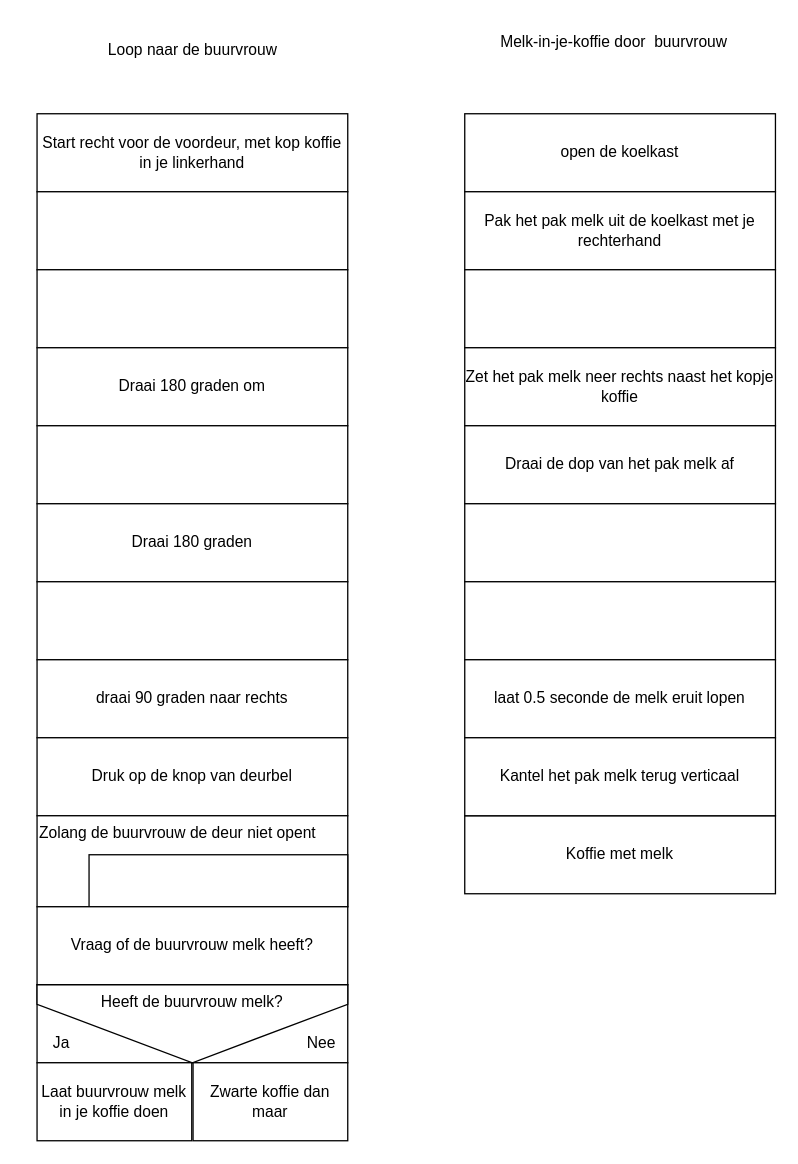
Image size: 798x1164. Some labels were removed from this diagram. Each missing label, with the centre of its shape:
"Kantel het pak melk naar links" belongs at point (619, 620).
"Loop 10 stappen voorruit" belongs at point (192, 620).
"Open de voordeur met je rechterhand" belongs at point (192, 230).
"Pak met je rechterhand het pak melk op" belongs at point (619, 542).
"sluit de koelkast met je linkerhand" belongs at point (619, 308).
"Sluit de voordeur met je rechterhand" belongs at point (192, 464).
"Wacht" belongs at point (218, 880).
"zet 2 stappen voorruit" belongs at point (192, 308).
